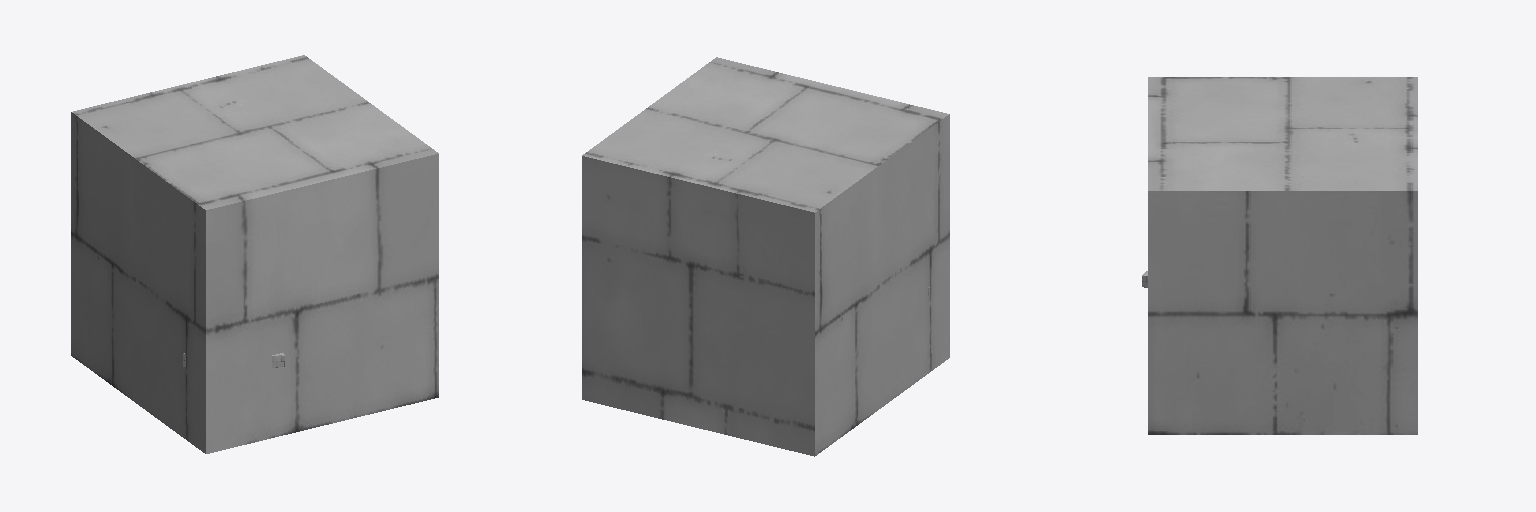
The picture shows the model from 3 angles: view 1: azimuth 30°, elevation 25°; view 2: azimuth 150°, elevation 25°; view 3: azimuth 270°, elevation 25°; orthographic projection.
Visible parts, largest first — view 1: pCube10; view 2: pCube10; view 3: pCube10.
Part boxes in pixels (left/top/right/bottom): pCube10: left=71, top=55, right=438, bottom=453; pCube10: left=582, top=57, right=949, bottom=456; pCube10: left=1148, top=77, right=1417, bottom=434.
Bounding box in the file's own units: 30.19 × 30 × 30.7.
Materials: 1 (1 with a texture image).